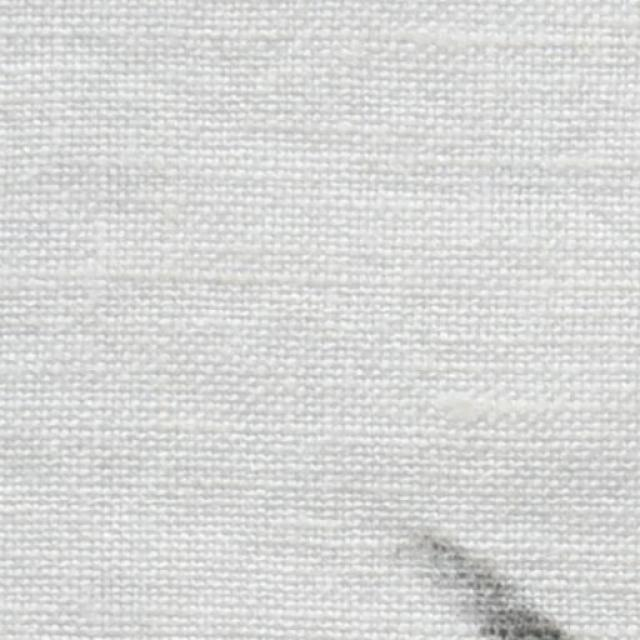Stain: (399, 534, 572, 640)
